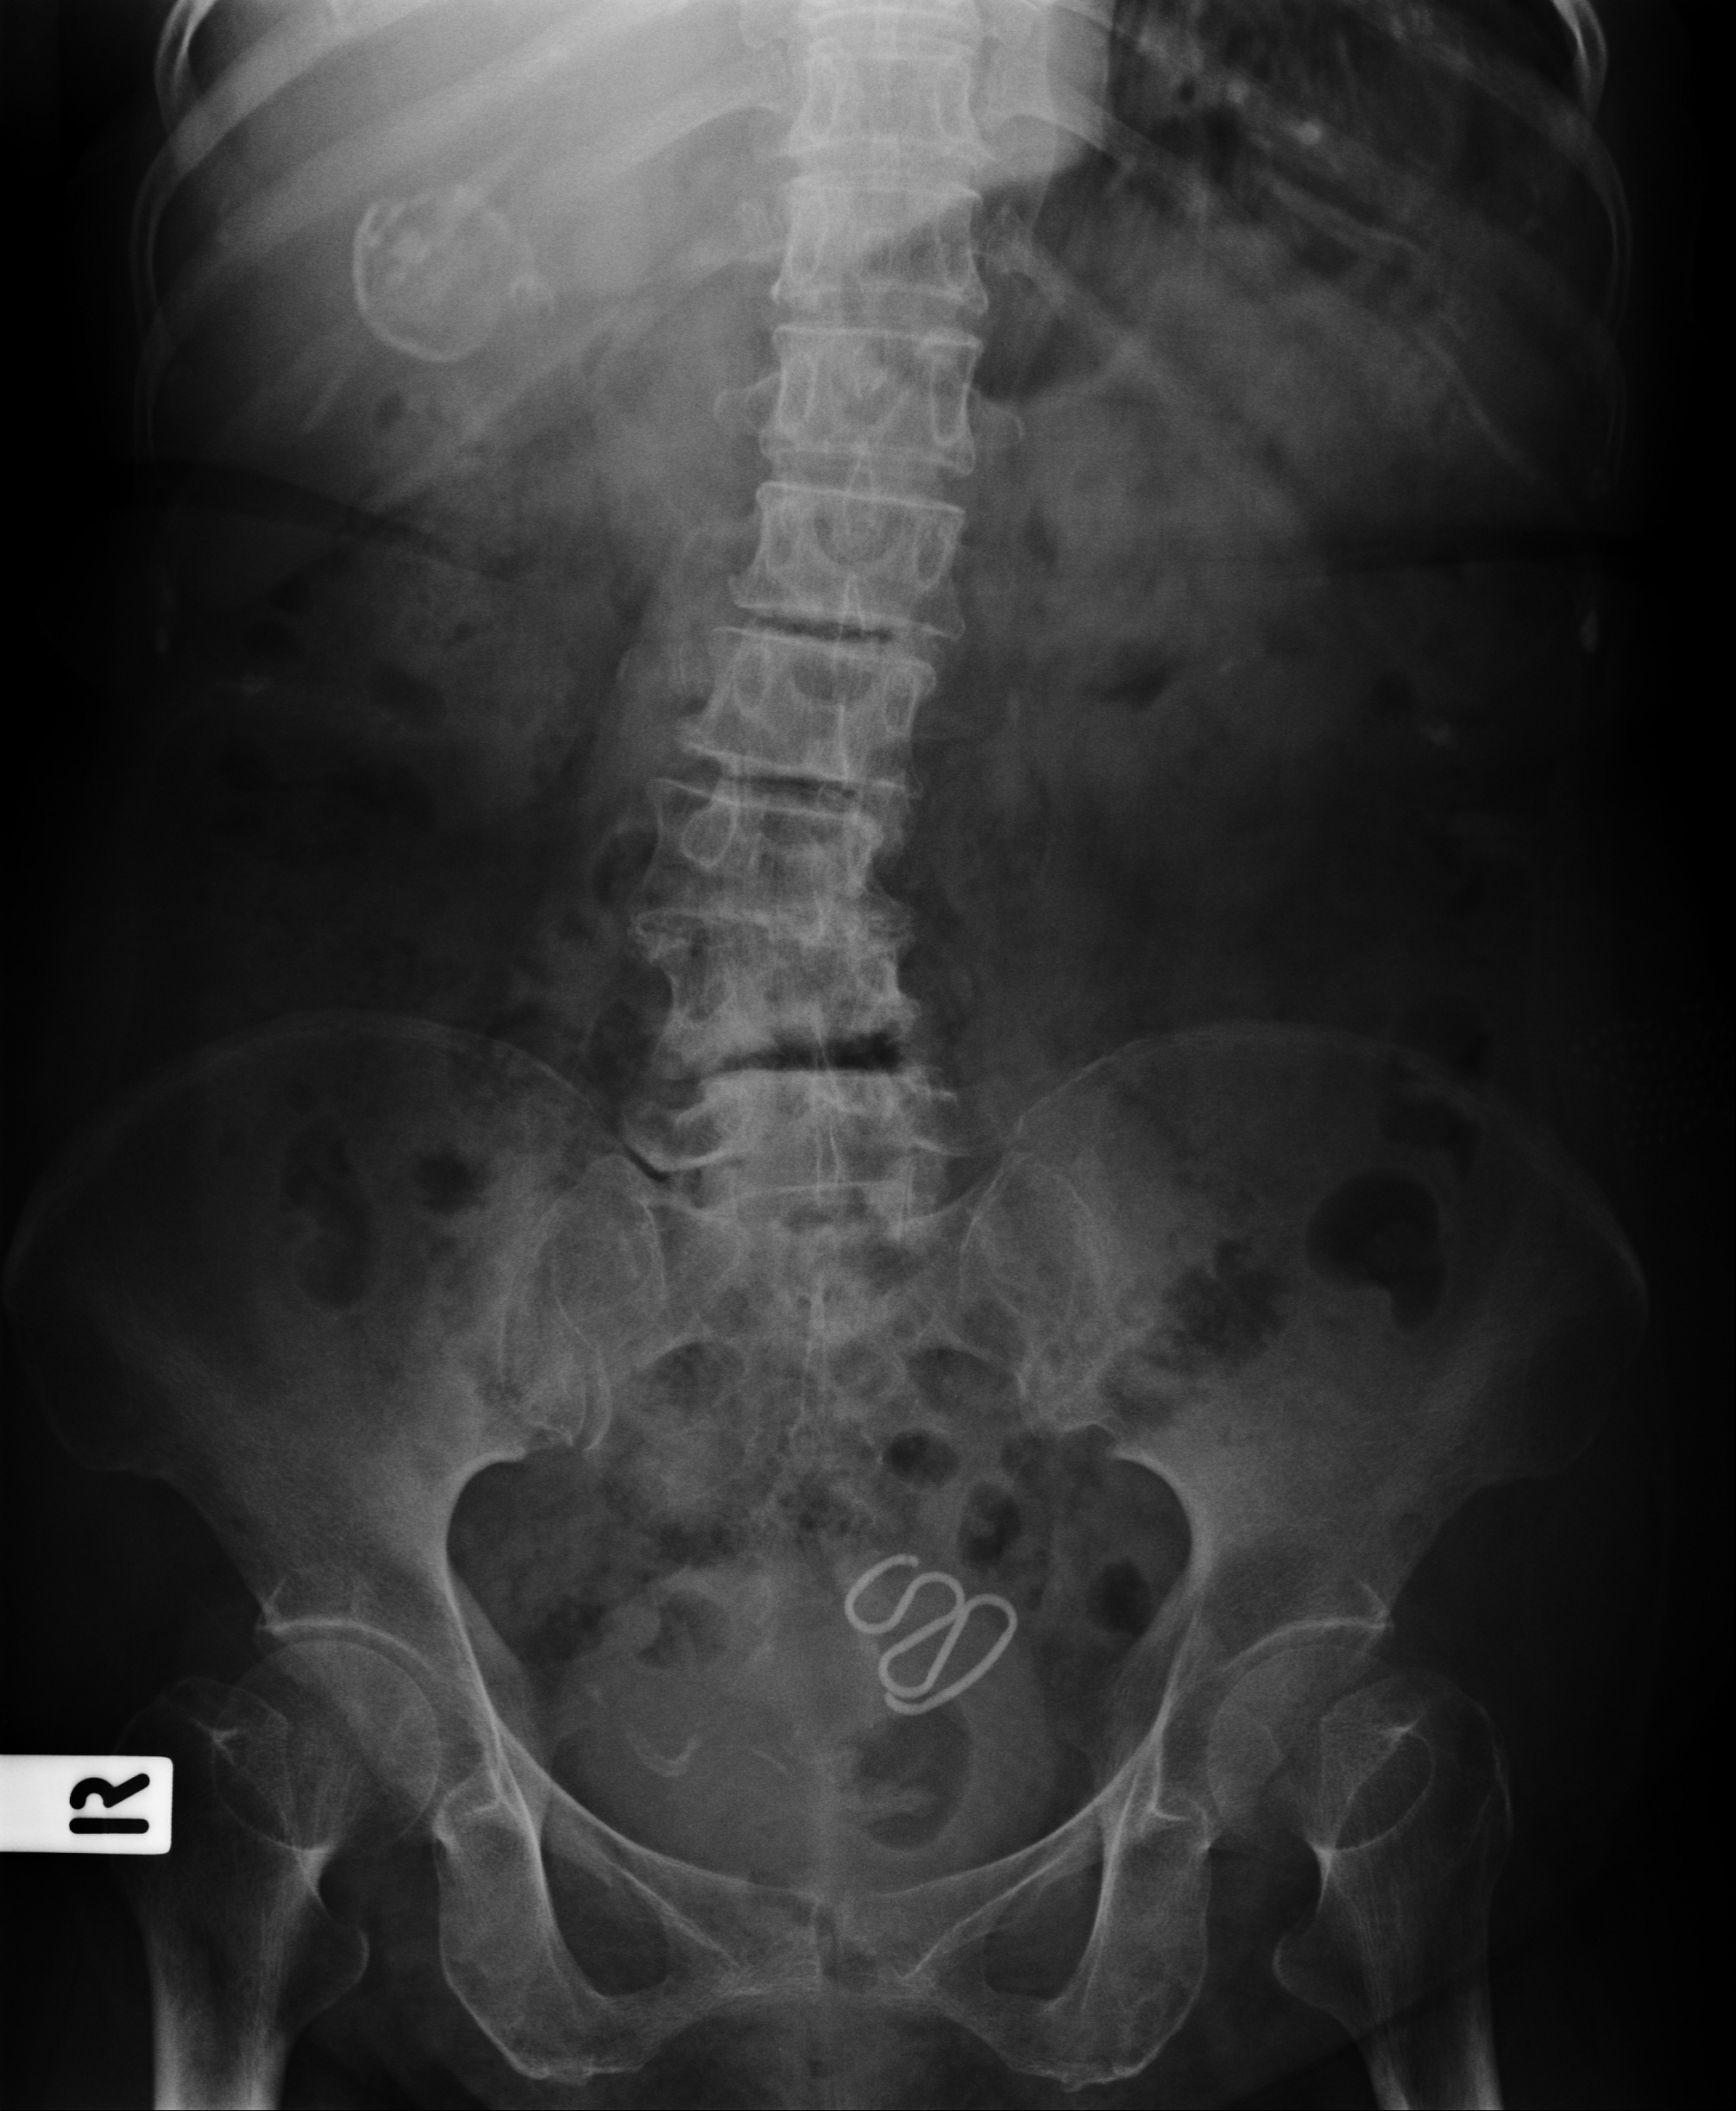lumbar scoliosis: (651, 12, 991, 1271)
